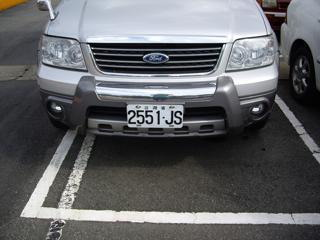plate: (124, 103, 184, 130)
